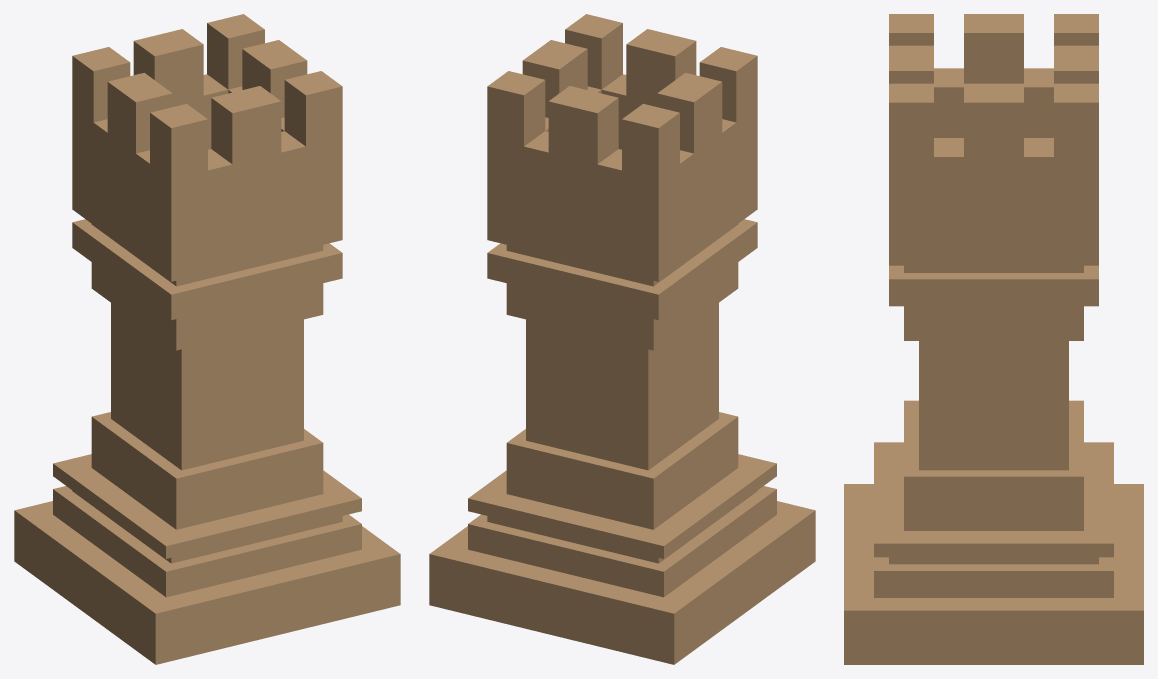
Rendered from white_rook.glb.
3 renders of one model, left to right at view 1: azimuth 30°, elevation 25°; view 2: azimuth 150°, elevation 25°; view 3: azimuth 270°, elevation 25°, orthographic. The views are drawn at different scales.
Visible parts, largest first — view 1: Untitled; view 2: Untitled; view 3: Untitled.
Part boxes in pixels (bbox=[...]): Untitled: bbox=[14, 14, 400, 664]; Untitled: bbox=[429, 14, 815, 664]; Untitled: bbox=[844, 14, 1143, 664].
Bounding box in the file's own units: 0.6 × 1.2 × 0.6.
Materials: 1 (1 with a texture image).
